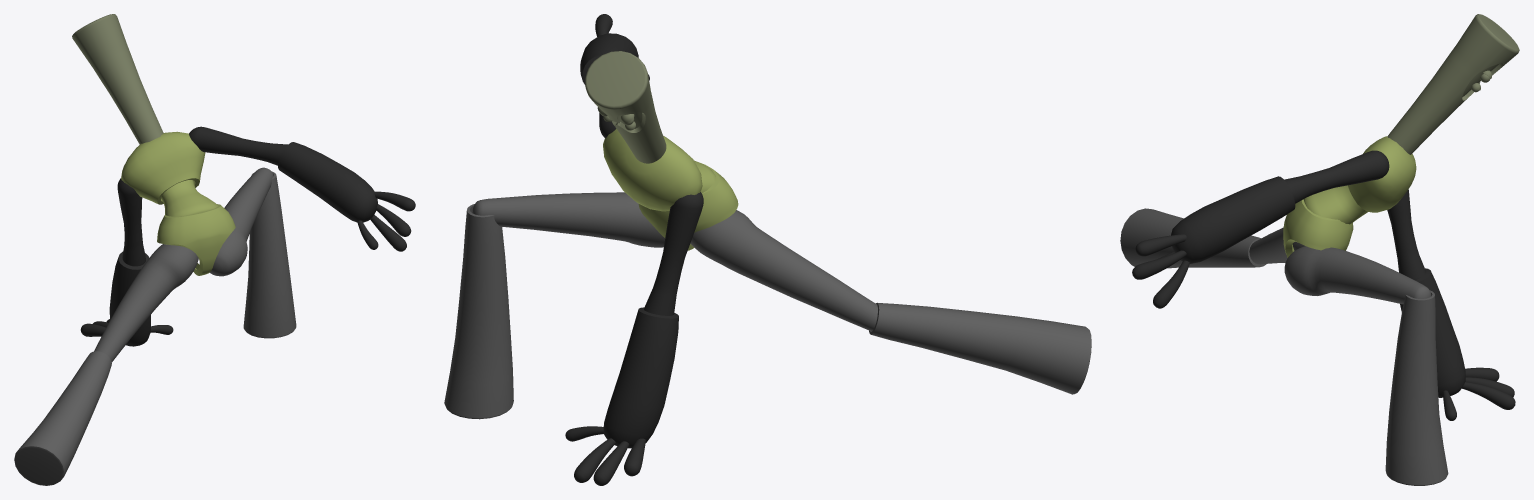
File: Florence_Pose_001.fbx
3 views of the same model, side by side, from view 1: azimuth 30°, elevation 25°; view 2: azimuth 150°, elevation 25°; view 3: azimuth 270°, elevation 25° (orthographic). The views are drawn at different scales.
Visible parts, largest first — view 1: L_Foot, R_Foot, Head, L_Thigh, R_Hand, Chest, Pelvis, R_Thigh, R_Shoulder, L_Shoulder, Waist, L_Hand (+3 smaller); view 2: L_Foot, R_Foot, L_Thigh, R_Thigh, L_Hand, Head, Chest, L_Shoulder, Pelvis, R_Hand, L_Index, L_Middle; view 3: R_Foot, Head, R_Hand, R_Thigh, L_Foot, Chest, R_Shoulder, L_Hand, Pelvis, L_Shoulder, Waist, L_Thigh (+4 smaller).
Part boxes in pixels (box(x1,y1,x2,y2)): L_Foot: box(14, 351, 111, 485); R_Foot: box(243, 171, 296, 338); Head: box(72, 14, 163, 144); L_Thigh: box(94, 244, 198, 362); R_Hand: box(278, 142, 377, 222); Chest: box(121, 131, 205, 204); Pelvis: box(157, 204, 235, 275); R_Thigh: box(209, 167, 273, 276); R_Shoulder: box(189, 126, 287, 165); L_Shoulder: box(117, 178, 145, 266); Waist: box(161, 180, 217, 216); L_Hand: box(109, 251, 150, 346); L_Foot: box(869, 302, 1091, 394); R_Foot: box(444, 204, 513, 419); L_Thigh: box(690, 210, 877, 331); R_Thigh: box(472, 192, 665, 247); L_Hand: box(603, 307, 678, 448); Head: box(585, 51, 666, 163); Chest: box(603, 129, 702, 211); L_Shoulder: box(644, 192, 703, 315); Pelvis: box(638, 163, 738, 250); R_Hand: box(580, 33, 638, 84); L_Index: box(574, 438, 615, 482); L_Middle: box(593, 441, 629, 485); R_Foot: box(1385, 290, 1448, 485); Head: box(1387, 14, 1519, 154); R_Hand: box(1171, 176, 1295, 263); R_Thigh: box(1284, 246, 1431, 304); L_Foot: box(1120, 208, 1266, 268); Chest: box(1348, 136, 1416, 212); R_Shoulder: box(1284, 150, 1389, 203); L_Hand: box(1400, 268, 1465, 397); Pelvis: box(1283, 199, 1353, 257); L_Shoulder: box(1387, 189, 1426, 280); Waist: box(1303, 185, 1368, 224); L_Thigh: box(1249, 227, 1305, 264).
Size of the model in its own units: 9.43 by 7.59 by 7.21.
